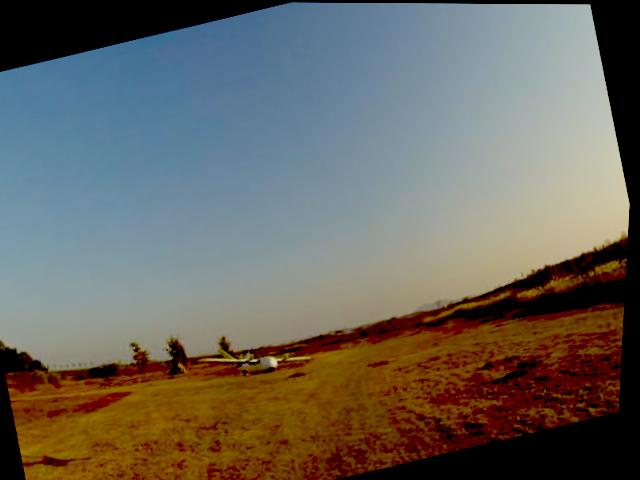uav: (191, 317, 327, 408)
